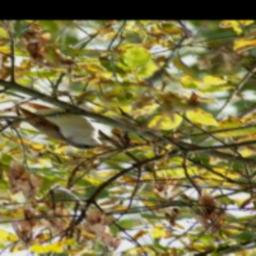Cuckoo: (3, 104, 117, 155)
